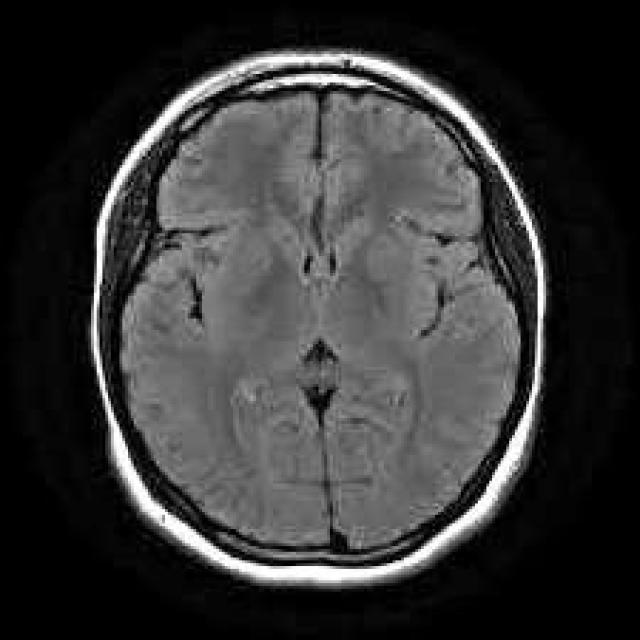No_Tumor: (90, 50, 547, 585)
